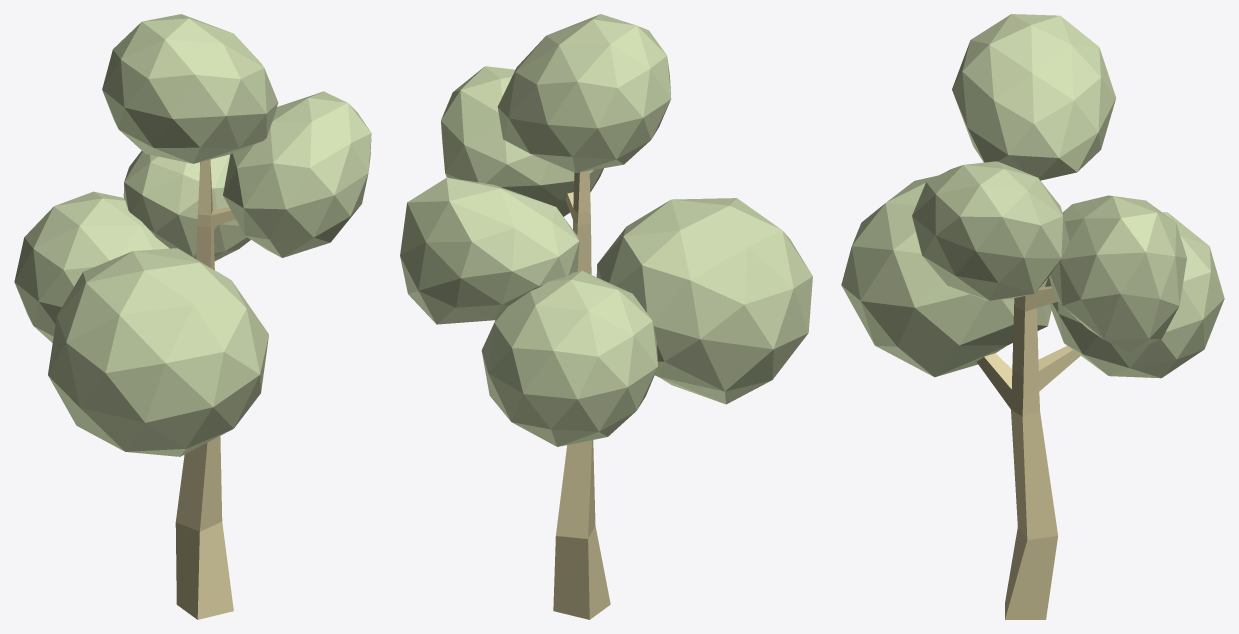
The model's file is OakTree2Light1.5.fbx.
3 renders of one model, left to right at view 1: azimuth 30°, elevation 25°; view 2: azimuth 150°, elevation 25°; view 3: azimuth 270°, elevation 25°, orthographic. The views are drawn at different scales.
Parts seen in each view (by area): view 1: OakTree2; view 2: OakTree2; view 3: OakTree2.
Boxes of the visible parts, box(x1,y1,x2,y2) form: OakTree2: box(14, 14, 371, 619); OakTree2: box(400, 14, 812, 619); OakTree2: box(841, 14, 1224, 619).
Size of the model in its own units: 427 by 763 by 458.
